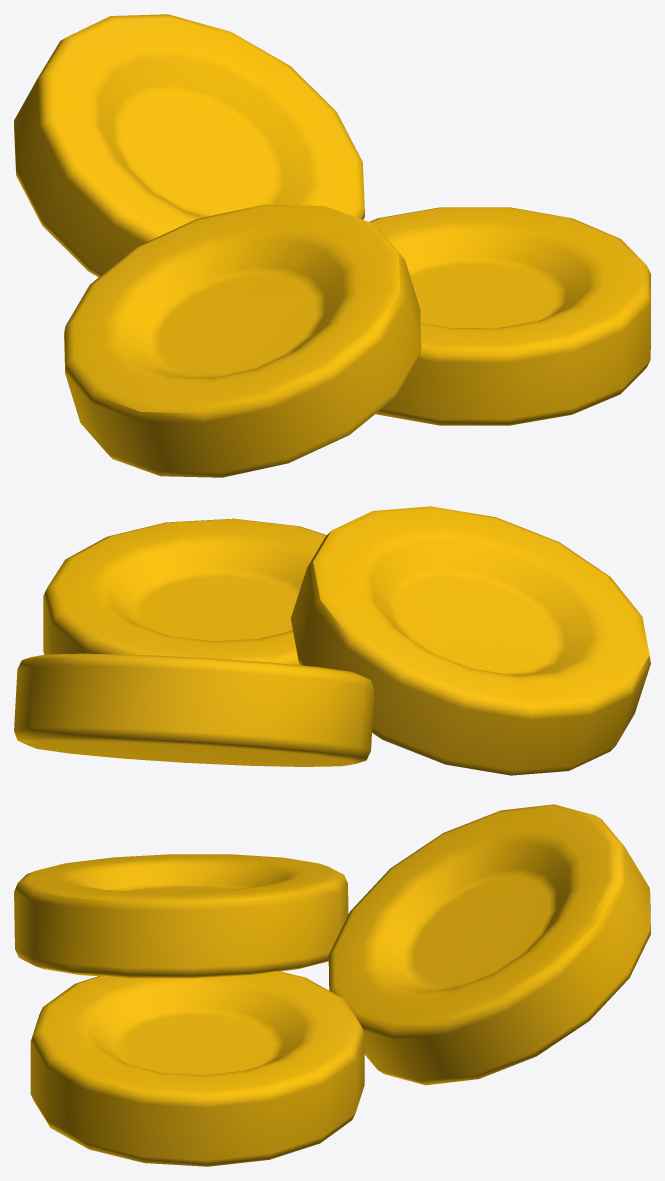
The picture shows the model from 3 angles, top to bottom: view 1: azimuth 30°, elevation 25°; view 2: azimuth 150°, elevation 25°; view 3: azimuth 270°, elevation 25°; orthographic projection. The views are drawn at different scales.
Parts seen in each view (by area): view 1: model_0.118; view 2: model_0.118; view 3: model_0.118.
Boxes of the visible parts, x1=… form: model_0.118: x1=14, y1=14, x2=650, y2=477; model_0.118: x1=14, y1=506, x2=650, y2=775; model_0.118: x1=14, y1=804, x2=650, y2=1166.
Size of the model in its own units: 3.32 by 1.22 by 3.55.
